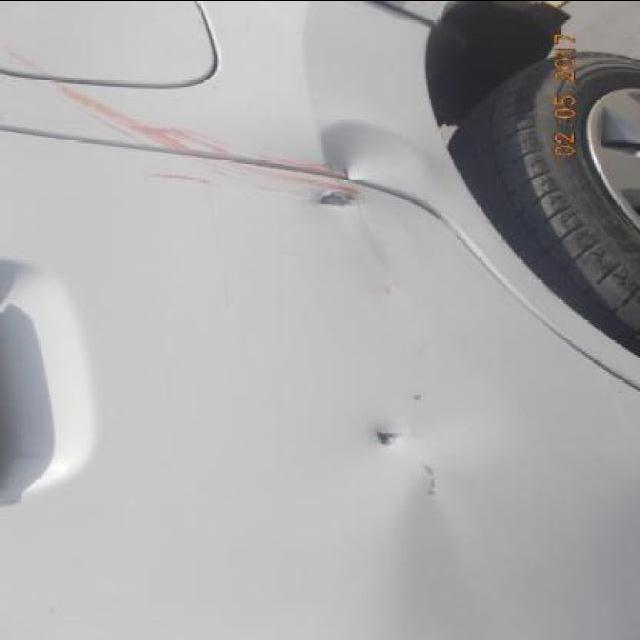doorouter-dent: (295, 188, 377, 235), (357, 414, 419, 462)
quaterpanel-dent: (303, 88, 449, 190)
